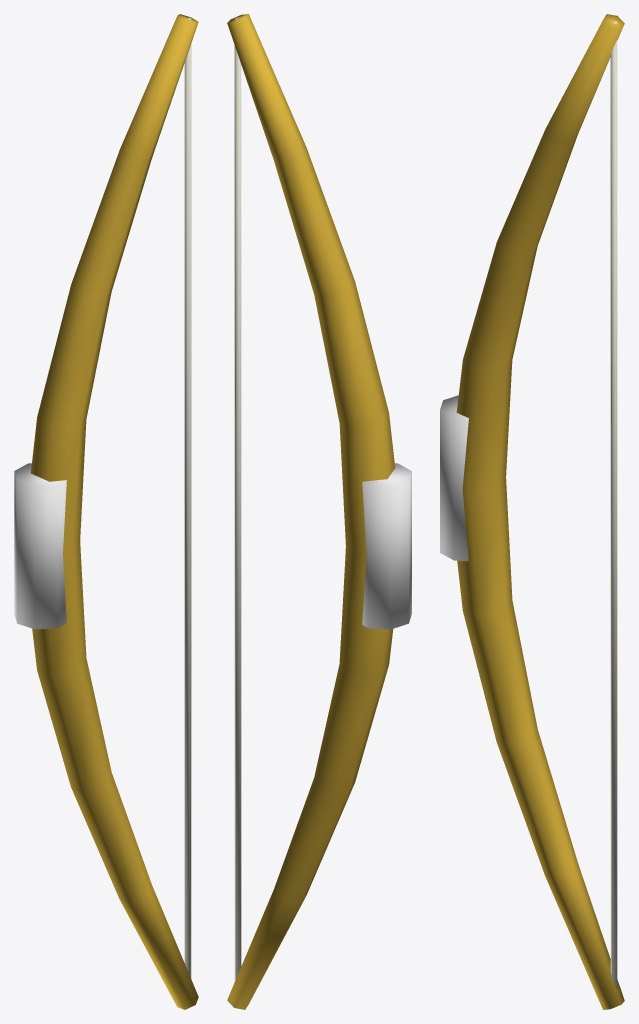
File: gold_bow.glb
The picture shows the model from 3 angles, left to right: view 1: azimuth 30°, elevation 25°; view 2: azimuth 150°, elevation 25°; view 3: azimuth 330°, elevation 25°; orthographic projection.
Visible parts, largest first — view 1: gold_bow_v0; view 2: gold_bow_v0; view 3: gold_bow_v0.
Boxes of the visible parts, bbox=[...] form: gold_bow_v0: bbox=[14, 14, 198, 1009]; gold_bow_v0: bbox=[227, 14, 411, 1009]; gold_bow_v0: bbox=[440, 14, 624, 1009].
Bounding box in the file's own units: 0.2105 × 1.11 × 0.06.
